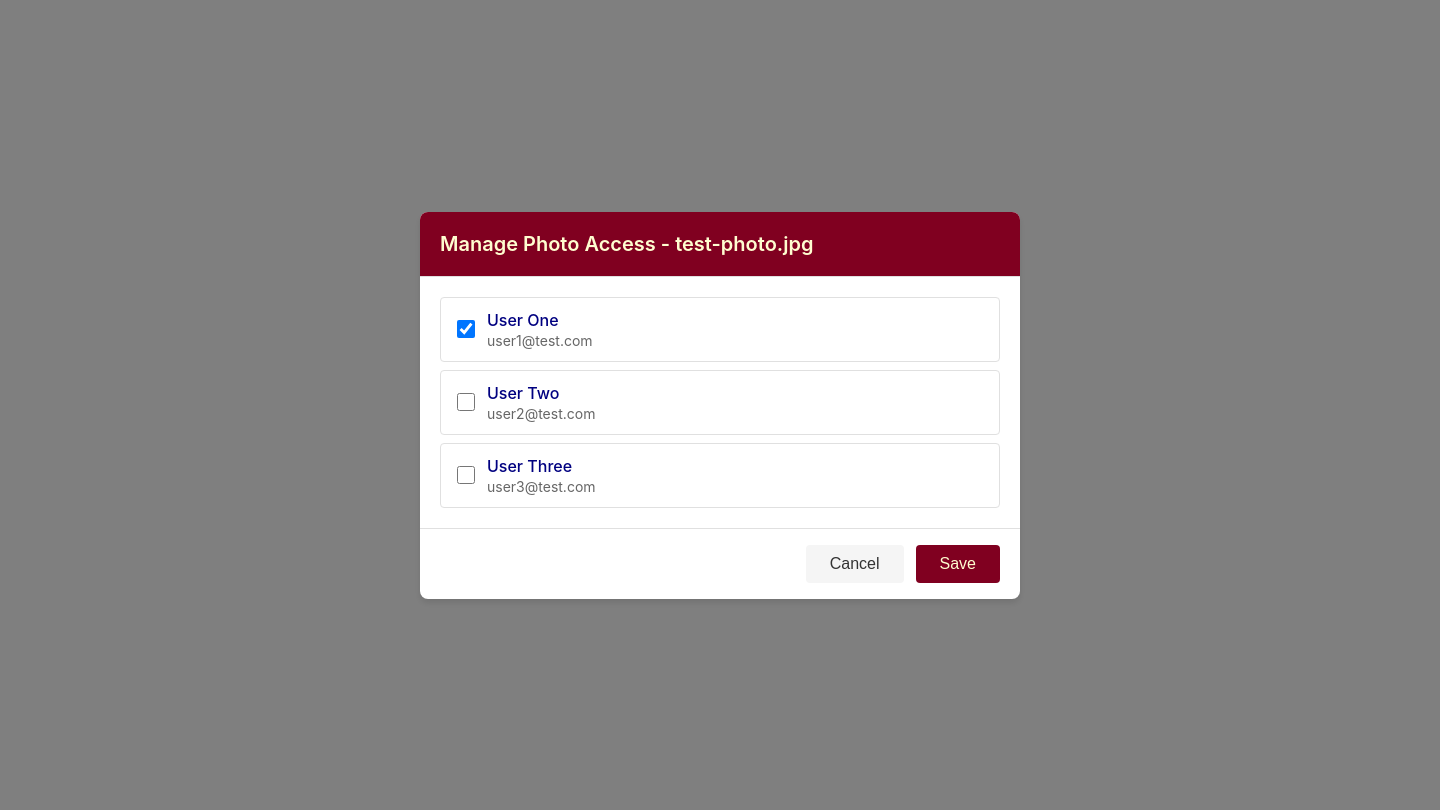
Test: UserAccessDialog Component › buttons are disabled while saving
Expected: the checkbox with test id "checkbox-1" is checked, [457,320,475,338]
Click the button with test id "save-button".
click(958, 564)  # box [916,544,1000,582]
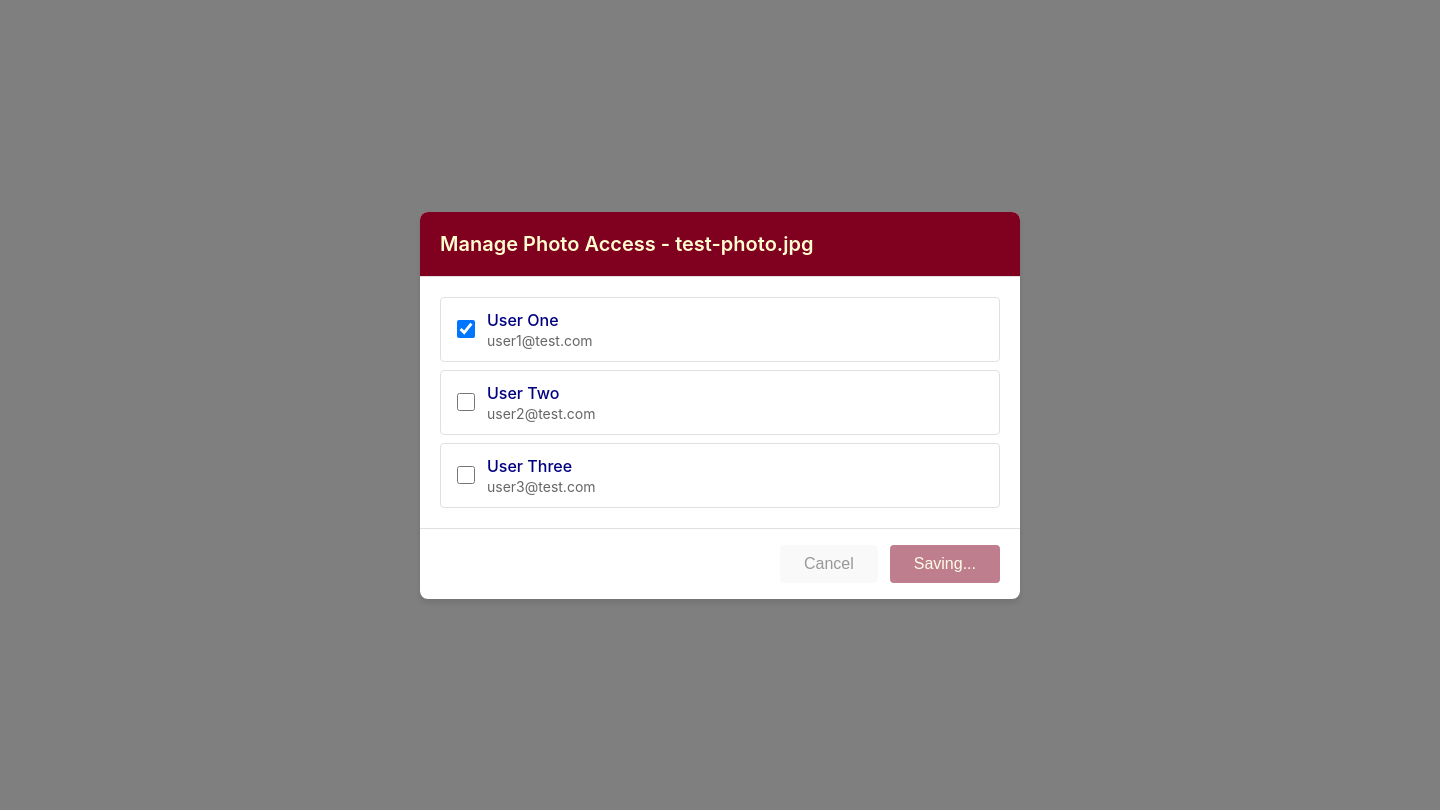
Expected: the button with test id "save-button" is disabled, [890,544,1000,582]
Expected: the button with test id "cancel-button" is disabled, [780,544,878,582]
